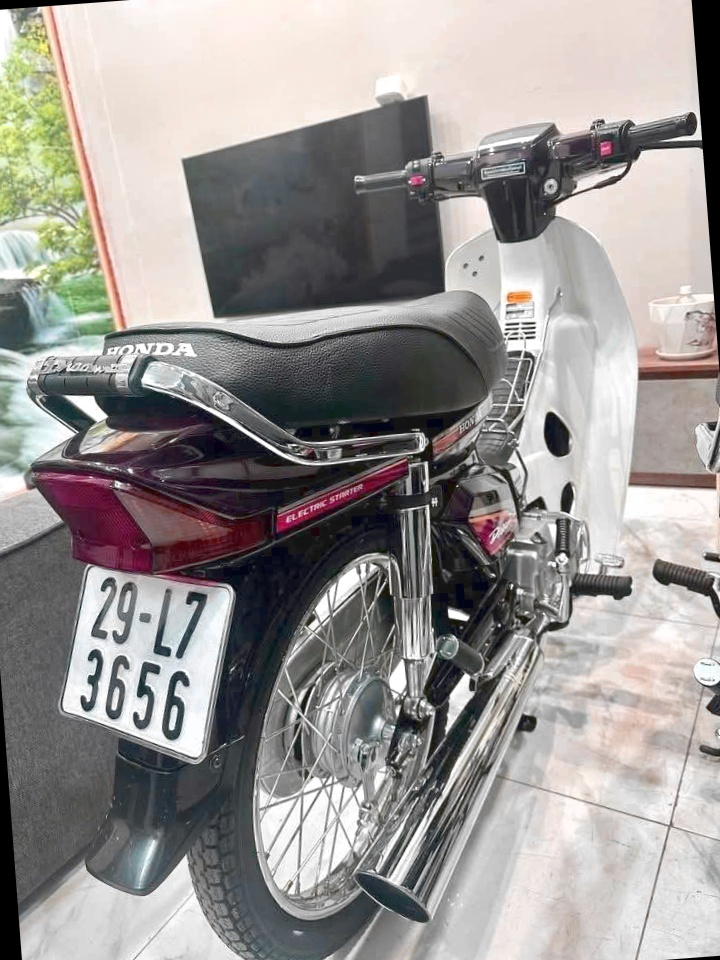Bien-so: (53, 550, 239, 772)
